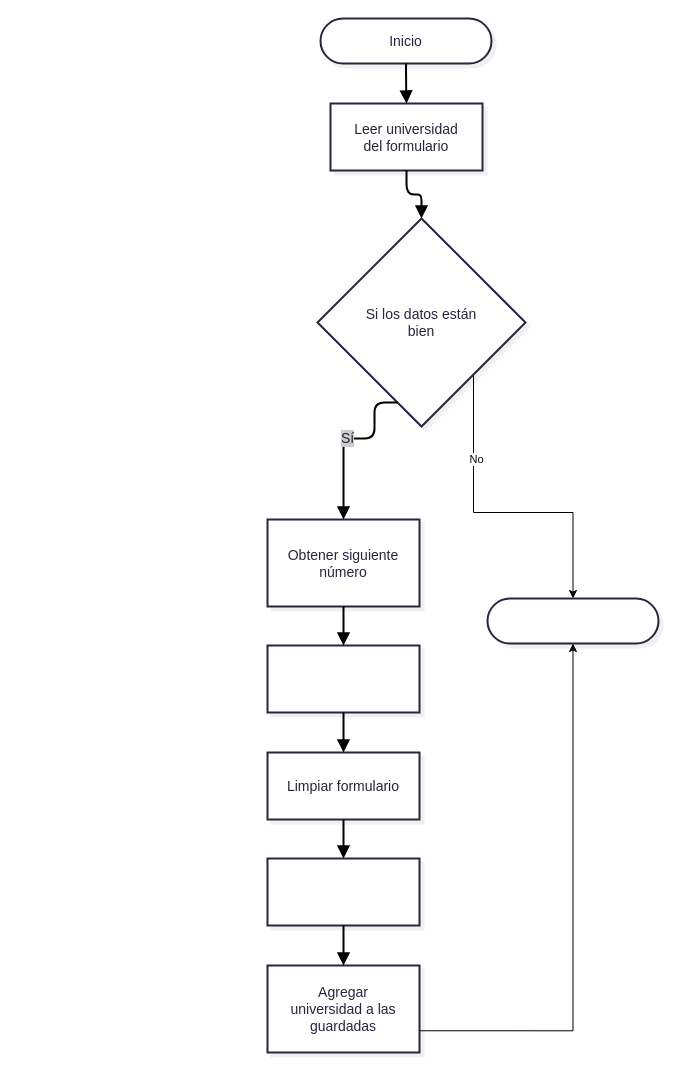
This 680x1074 diagram has some shape labels left out. Here are the shapes that lost their labels. From the top down, the centre of each, then its label:
pixel 574 622: Fin
pixel 345 680: Guardar universidad
pixel 345 893: Actualizar pantalla
